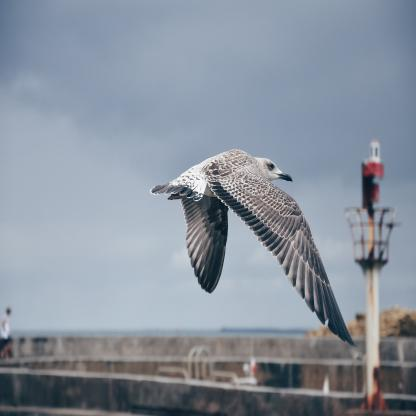bird: (150, 148, 357, 348)
